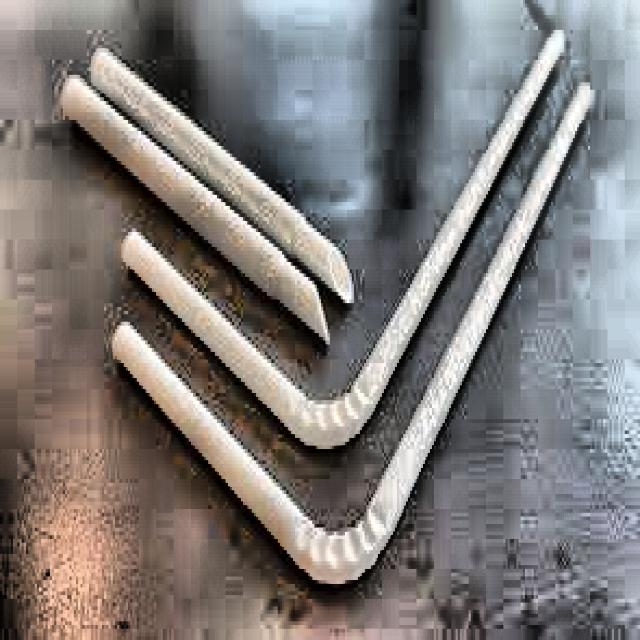plastic straw: (115, 82, 588, 585), (125, 32, 562, 447), (65, 78, 324, 329), (94, 56, 351, 303)
